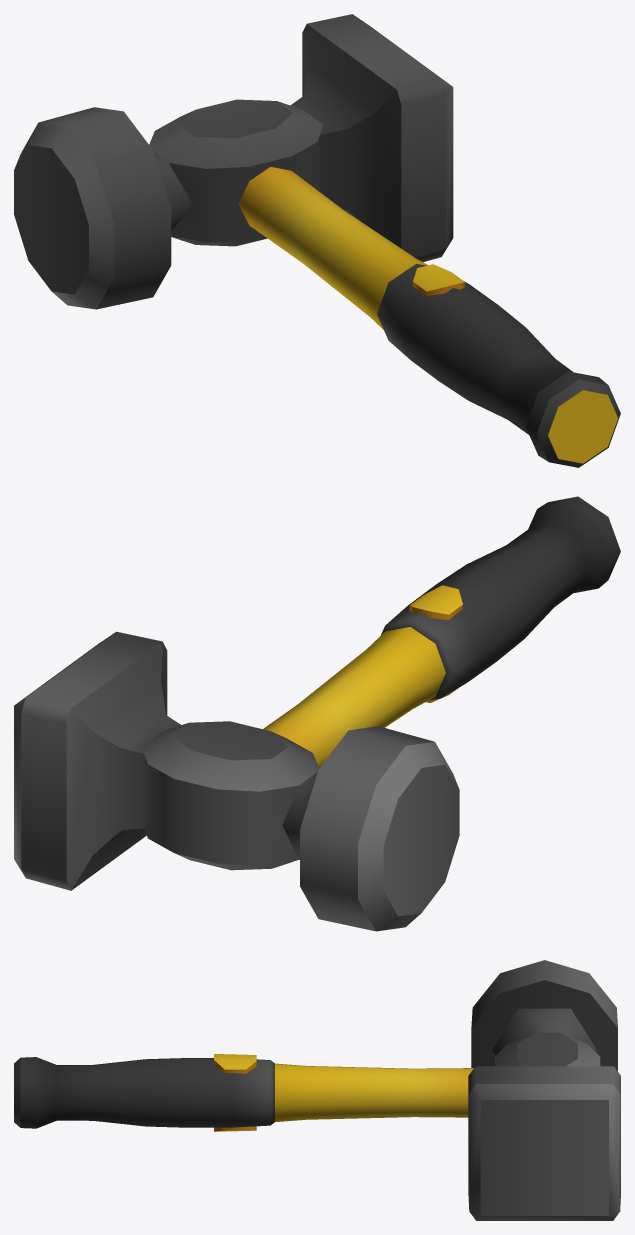
Rendered from Melee_Carrepairhammer.fbx.
The picture shows the model from 3 angles, top to bottom: view 1: azimuth 30°, elevation 25°; view 2: azimuth 150°, elevation 25°; view 3: azimuth 270°, elevation 25°; orthographic projection. The views are drawn at different scales.
Parts seen in each view (by area): view 1: Melee_Carrepairhammer; view 2: Melee_Carrepairhammer; view 3: Melee_Carrepairhammer.
Part boxes in pixels (x1,y1,x2,y2): Melee_Carrepairhammer: (14, 14, 620, 467); Melee_Carrepairhammer: (14, 496, 620, 931); Melee_Carrepairhammer: (14, 960, 620, 1220).
Size of the model in its own units: 0.4514 by 0.2177 by 0.8569.
